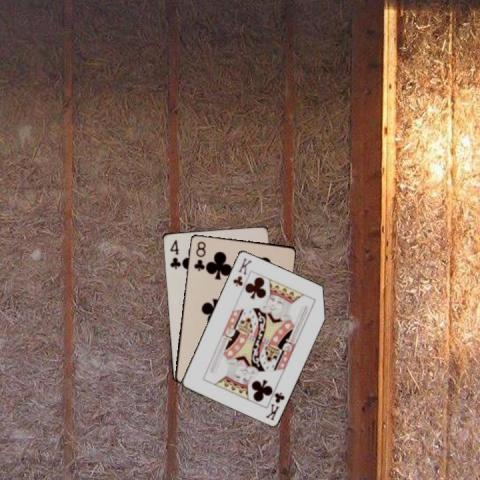4c: (167, 236, 181, 270)
8c: (190, 238, 206, 272)
Kc: (230, 255, 253, 288), (263, 389, 286, 422)
